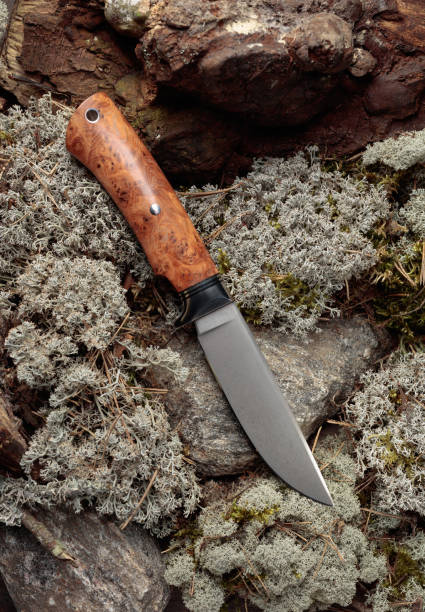knife: (59, 86, 336, 509)
